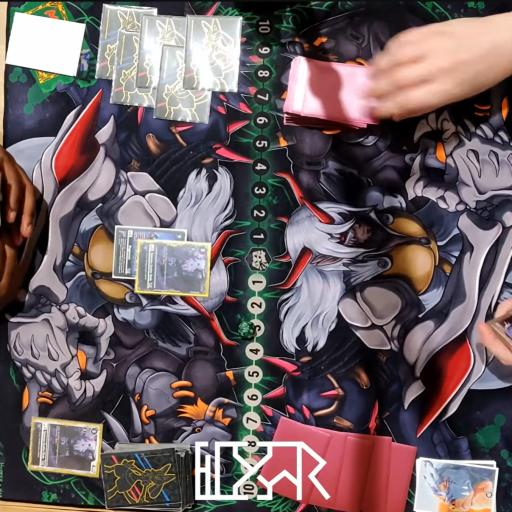card: (25, 416, 104, 480), (135, 239, 211, 302), (113, 226, 186, 281)
